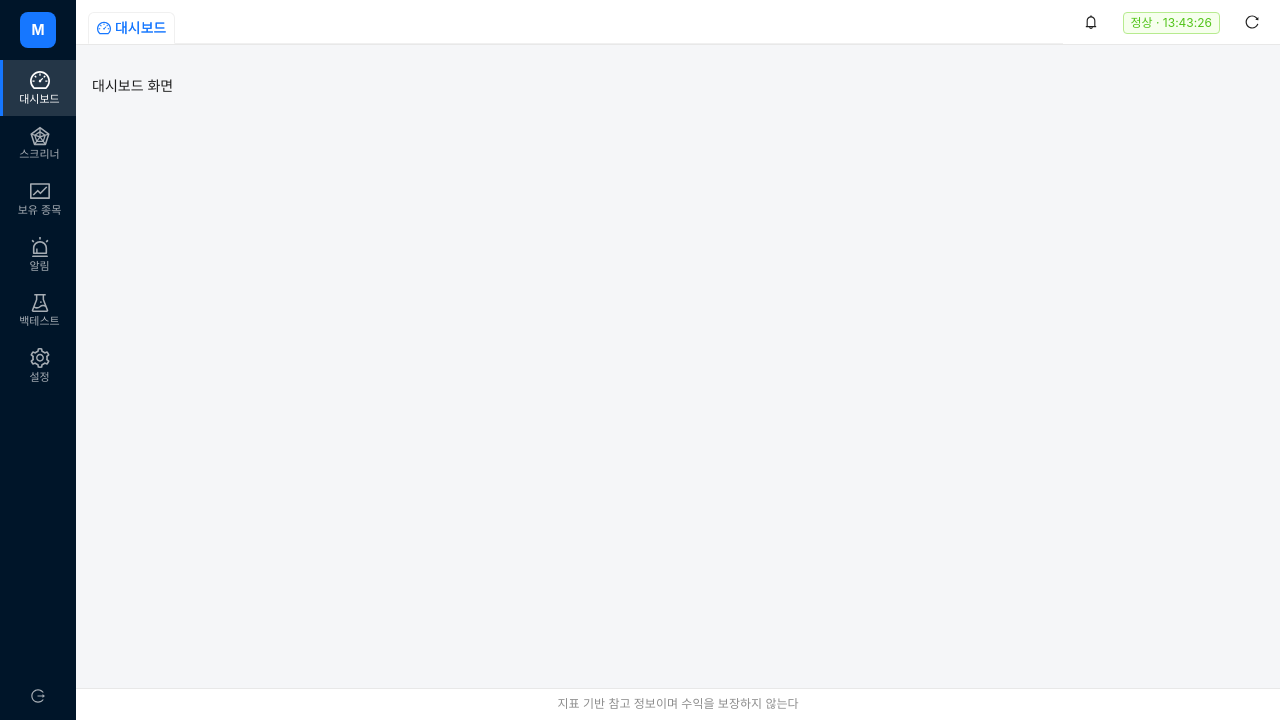
Scenario: AppLayout › opens a tab for each screen visited and switches between them
The image size is (1280, 720).
Expected: the text "대시보드 화면" is shown, 92,77 -> 173,94
Click the link "스크리너" at [40, 143], box 19,126 -> 60,161
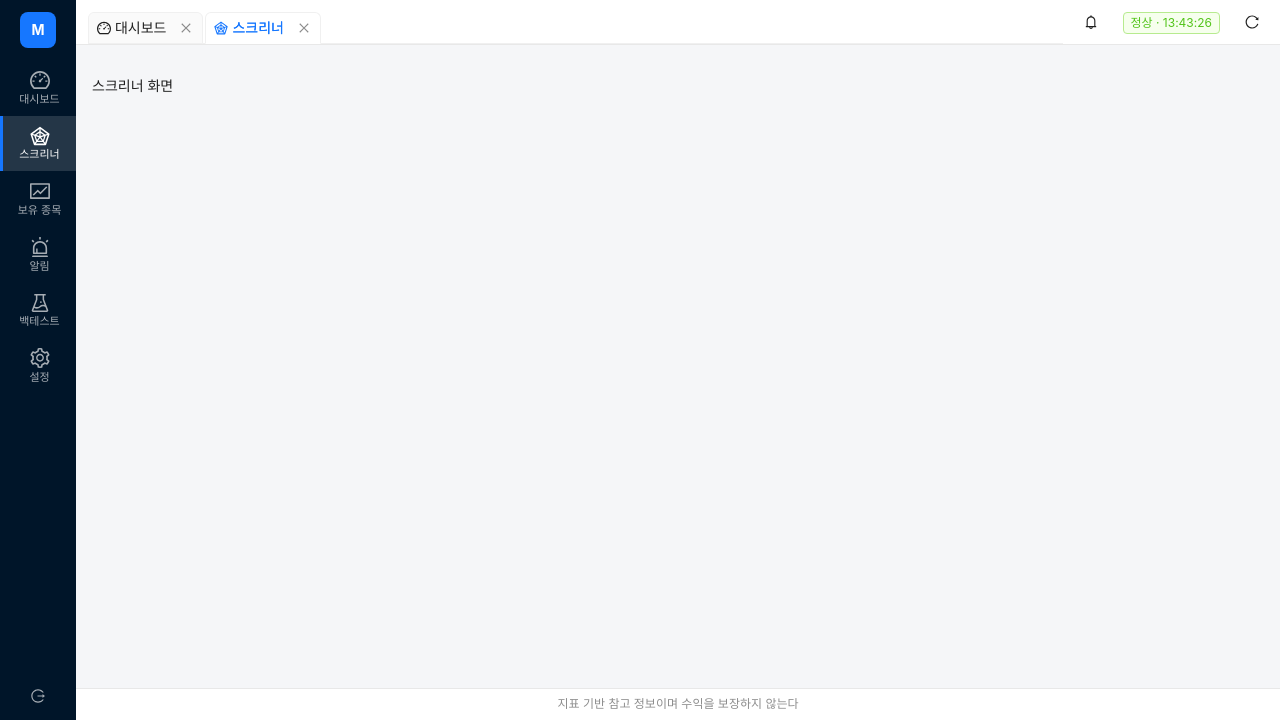
Click the link "설정" at [40, 366], box 29,348 -> 50,384
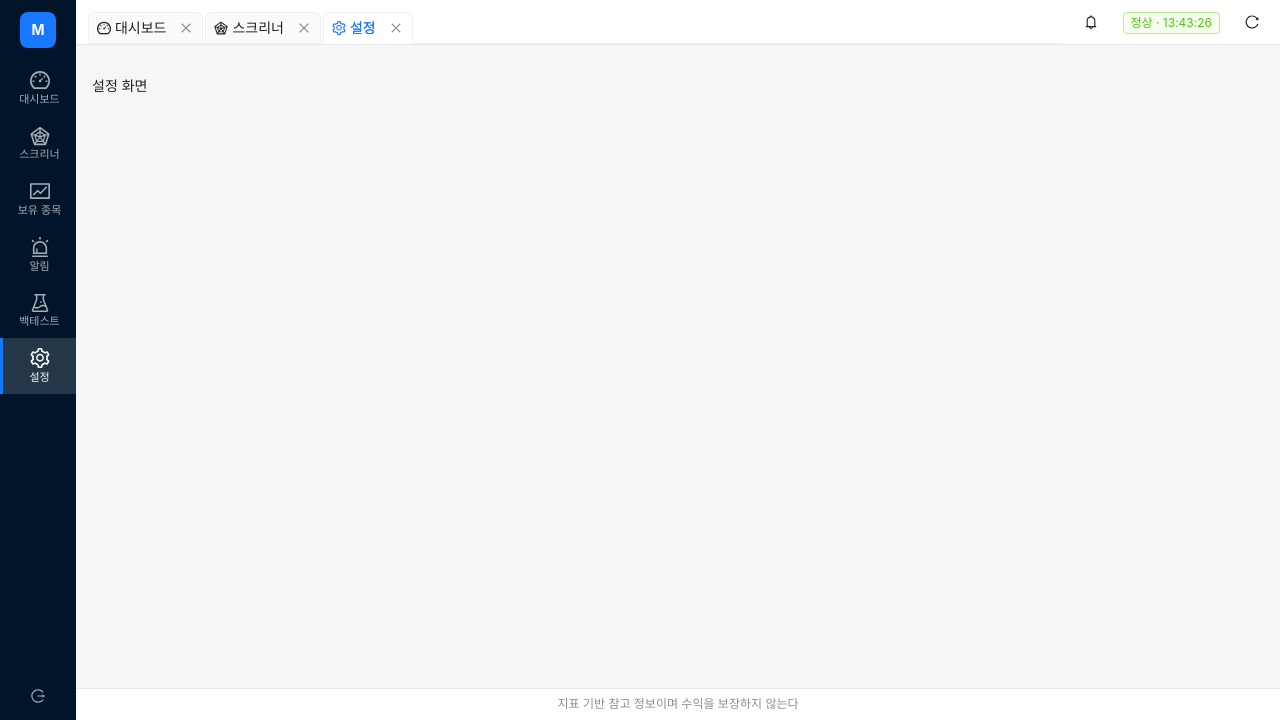
Expected: the text "설정 화면" is shown, 92,77 -> 148,94
Expected: the tab "설정" is shown, 332,17 -> 376,39
Click the tab "스크리너" at [249, 28], box 214,17 -> 284,39
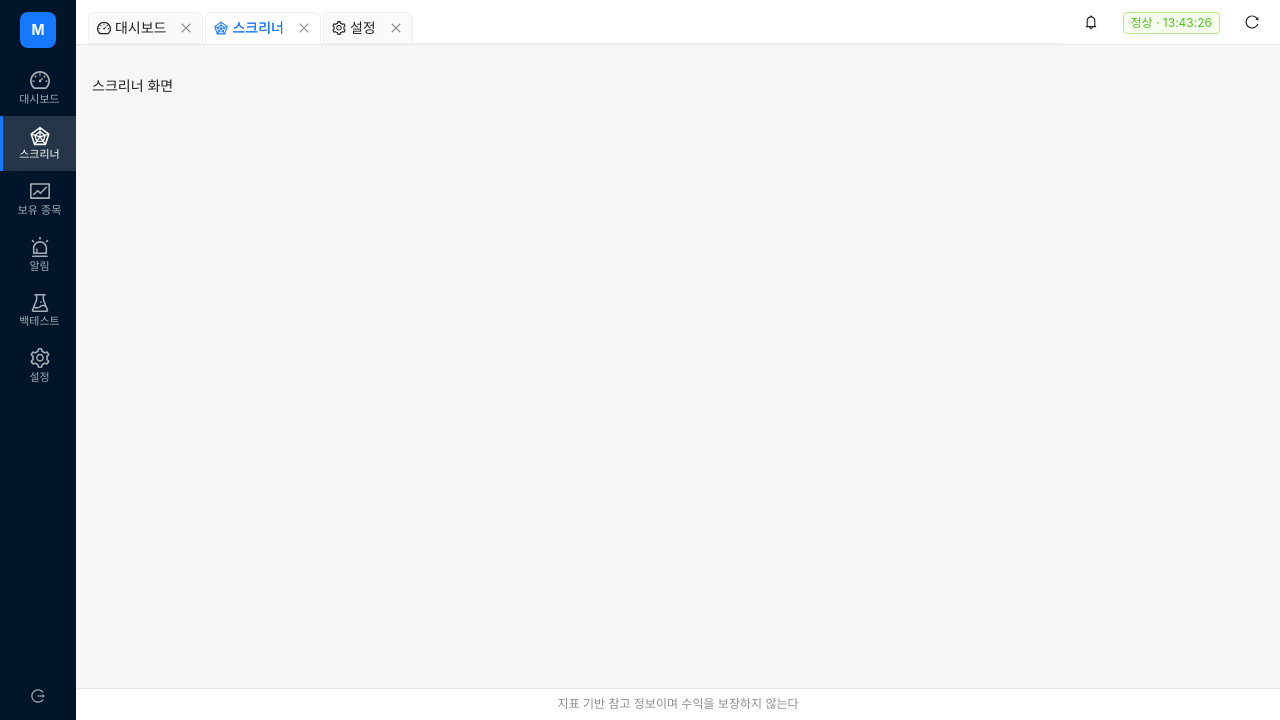
Expected: the text "스크리너 화면" is shown, 92,77 -> 173,94
